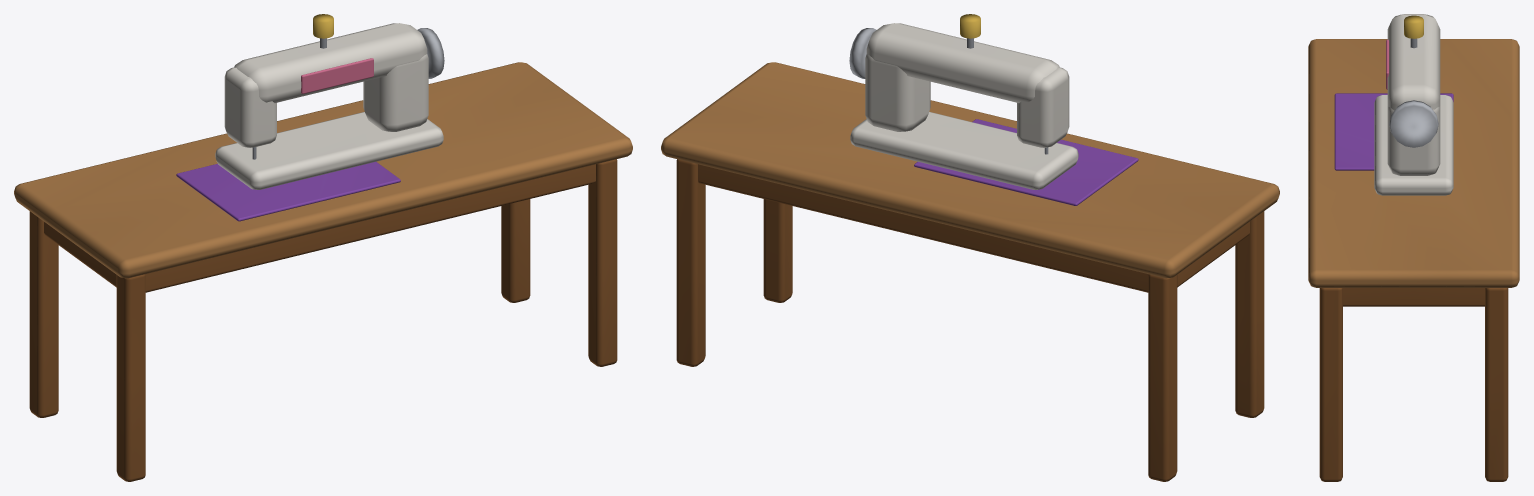
File: furn_sewing_table.glb
The picture shows the model from 3 angles, left to right: view 1: azimuth 30°, elevation 25°; view 2: azimuth 150°, elevation 25°; view 3: azimuth 270°, elevation 25°; orthographic projection. The views are drawn at different scales.
Visible parts, largest first — view 1: furn_sewing_table_main; view 2: furn_sewing_table_main; view 3: furn_sewing_table_main.
Part boxes in pixels (x1,y1,x2,y2): furn_sewing_table_main: [14, 14, 632, 481]; furn_sewing_table_main: [661, 14, 1279, 481]; furn_sewing_table_main: [1308, 14, 1519, 481].
Bounding box in the file's own units: 1.7 × 1.17 × 0.64.
